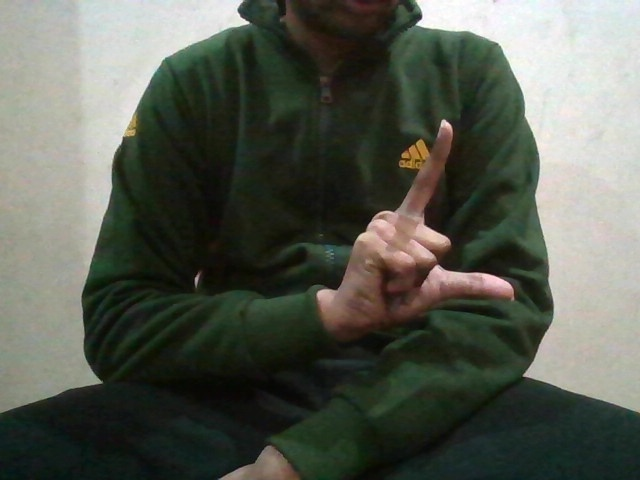L: (340, 108, 517, 325)
